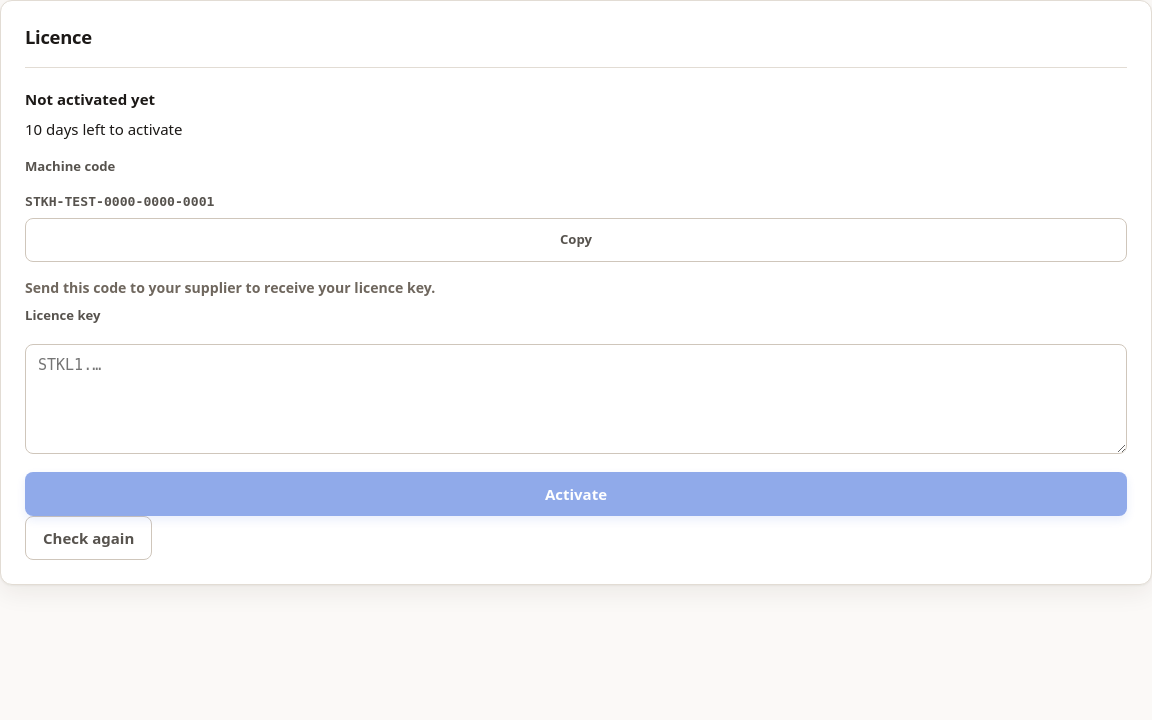
Test: WS-K-7-B LicenceSettingsCard › shows the localized message for LICENCE_INVALID
Type "STKL1.abc.def" into the text box with test id "licence-key-input" at (576, 399), box [25,344,1127,454]
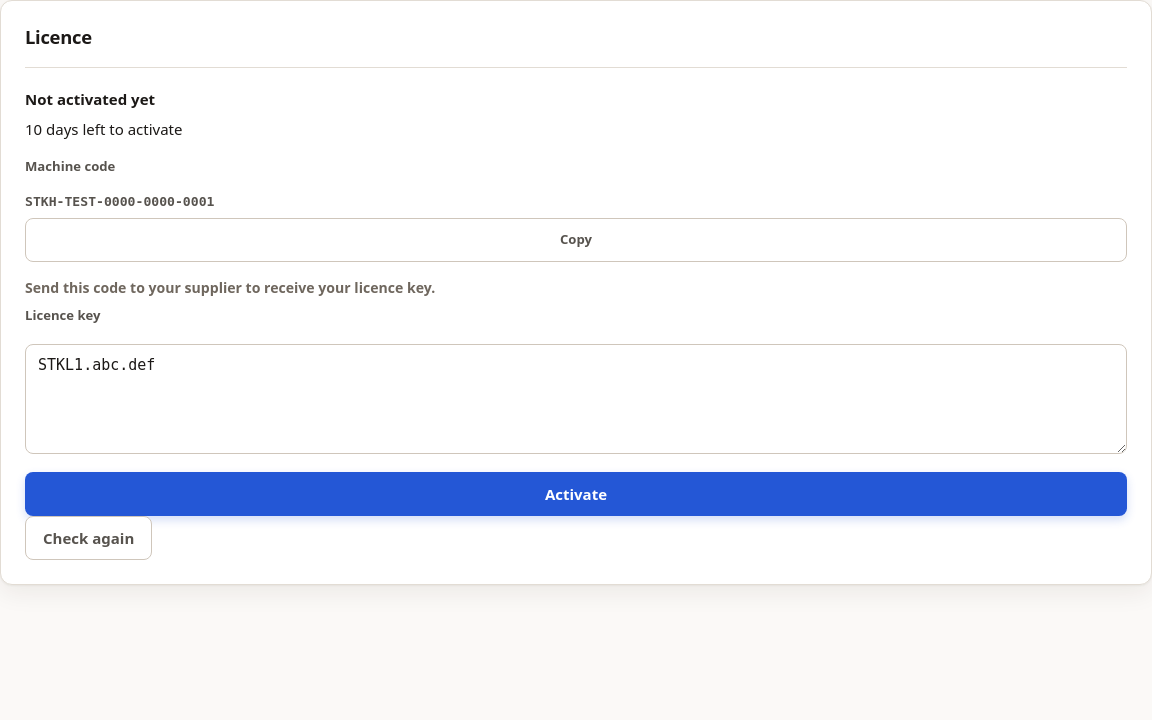
Click the button with test id "licence-activate" at (576, 494), box [25,472,1127,516]
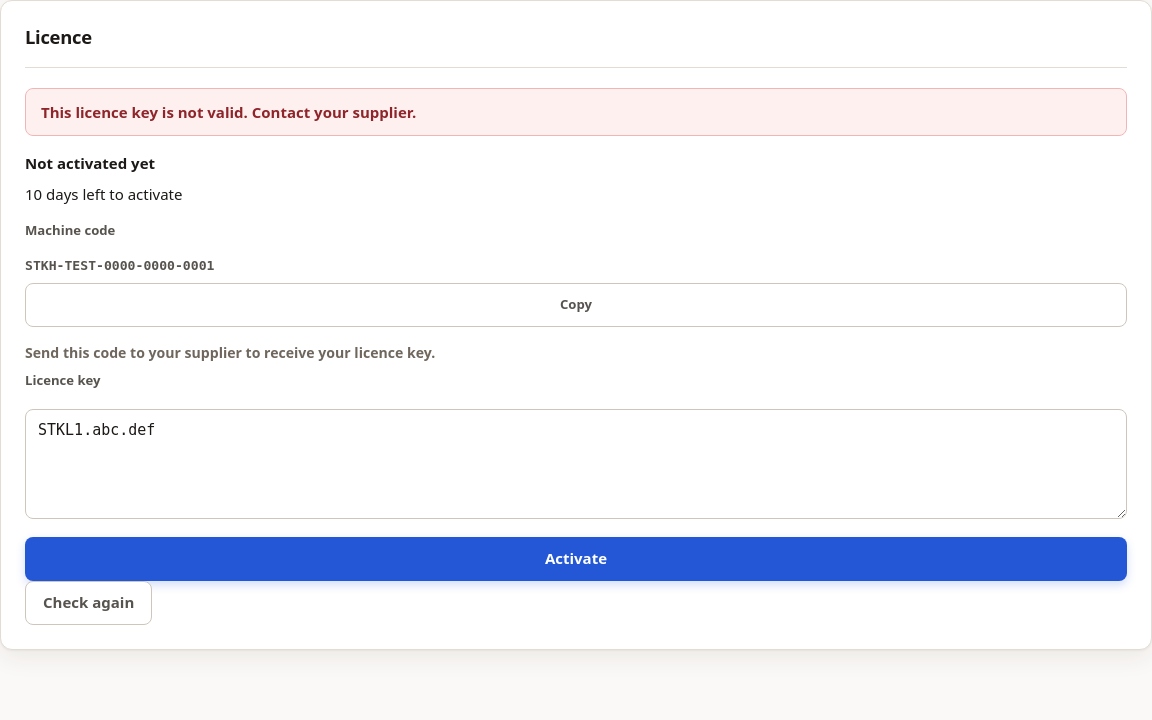
Result: the message "This licence key is not valid. Contact your supplier." is shown at [25,88,1127,136]
Result: the message with test id "licence-card-banner" reads "This licence key is not valid. Contact your supplier." at [41,102,416,122]
